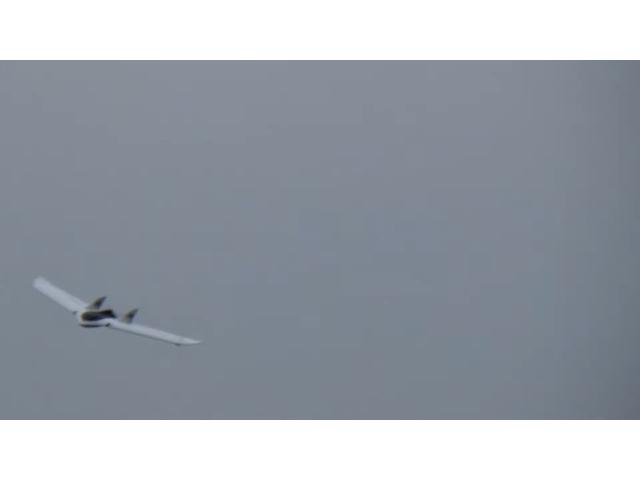Anti-Drone: (32, 276, 202, 346)
